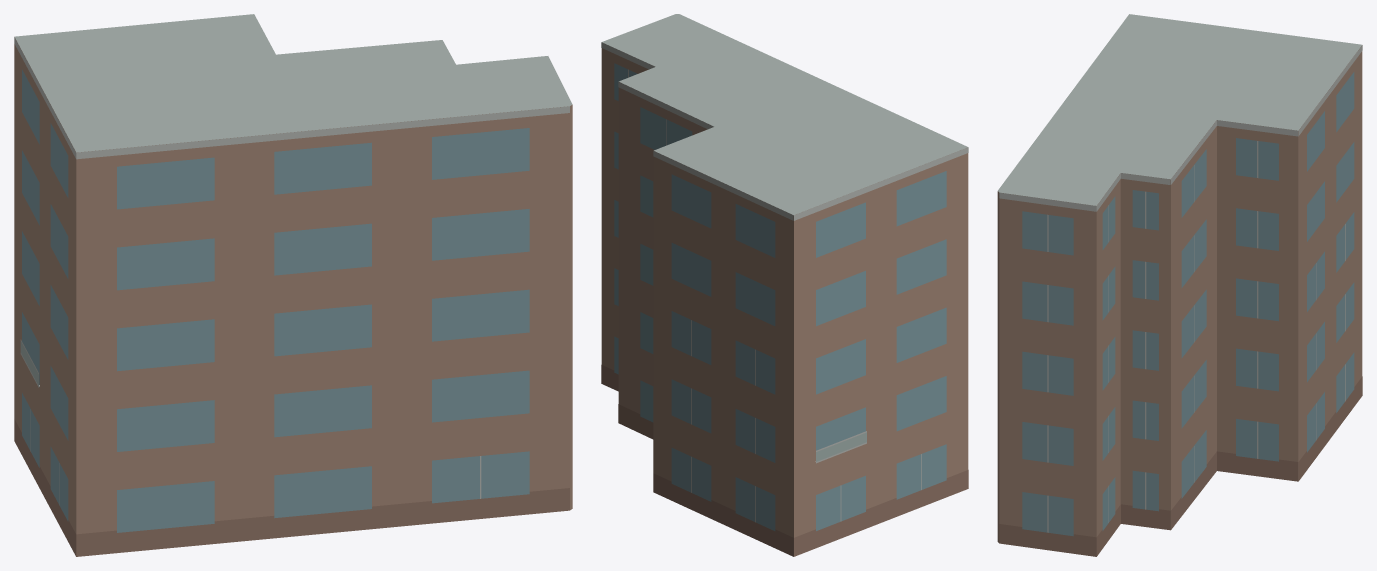
File: survey-upis-32535835.glb
The picture shows the model from 3 angles, left to right: view 1: azimuth 30°, elevation 25°; view 2: azimuth 150°, elevation 25°; view 3: azimuth 270°, elevation 25°; orthographic projection. The views are drawn at different scales.
Visible parts, largest first — view 1: survey-upis-32535835.tmp; view 2: survey-upis-32535835.tmp; view 3: survey-upis-32535835.tmp.
Part boxes in pixels (x1,y1,x2,y2): survey-upis-32535835.tmp: (14,14,572,556); survey-upis-32535835.tmp: (601,14,968,556); survey-upis-32535835.tmp: (997,14,1362,556).
Size of the model in its own units: 17.08 by 14.55 by 13.72.
